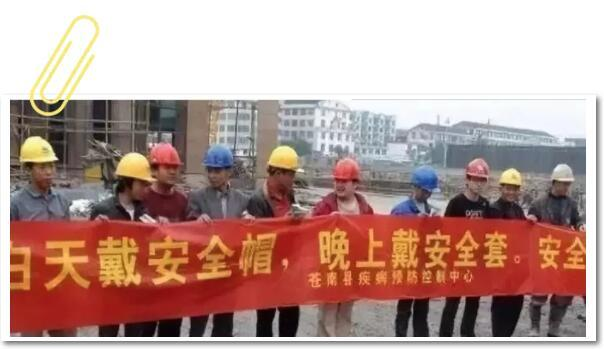helmet: (19, 135, 63, 167), (115, 152, 156, 184), (152, 143, 184, 169), (269, 147, 299, 171), (204, 144, 233, 168), (334, 158, 363, 181), (411, 167, 439, 190), (552, 164, 577, 184), (467, 159, 491, 179), (502, 168, 524, 185)
